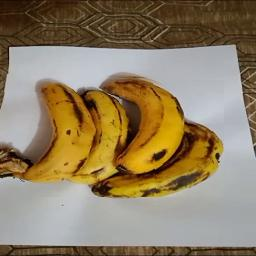Banana Semifresh: (1, 75, 225, 198)
